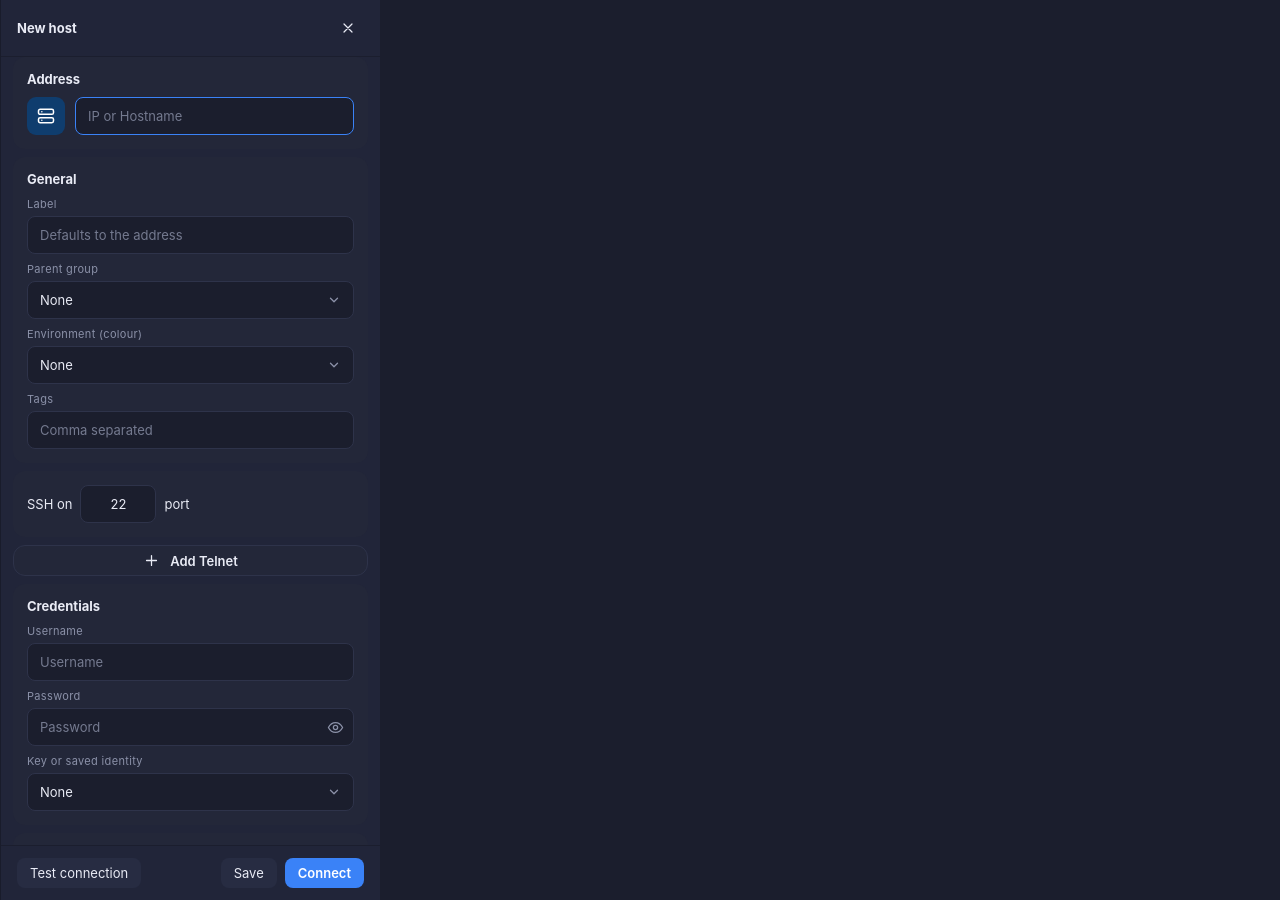
Test: HostForm › rejects port 0
Step 1. Type "h" into the field labelled "Hostname" → (214, 116), box 75,97 -> 354,135
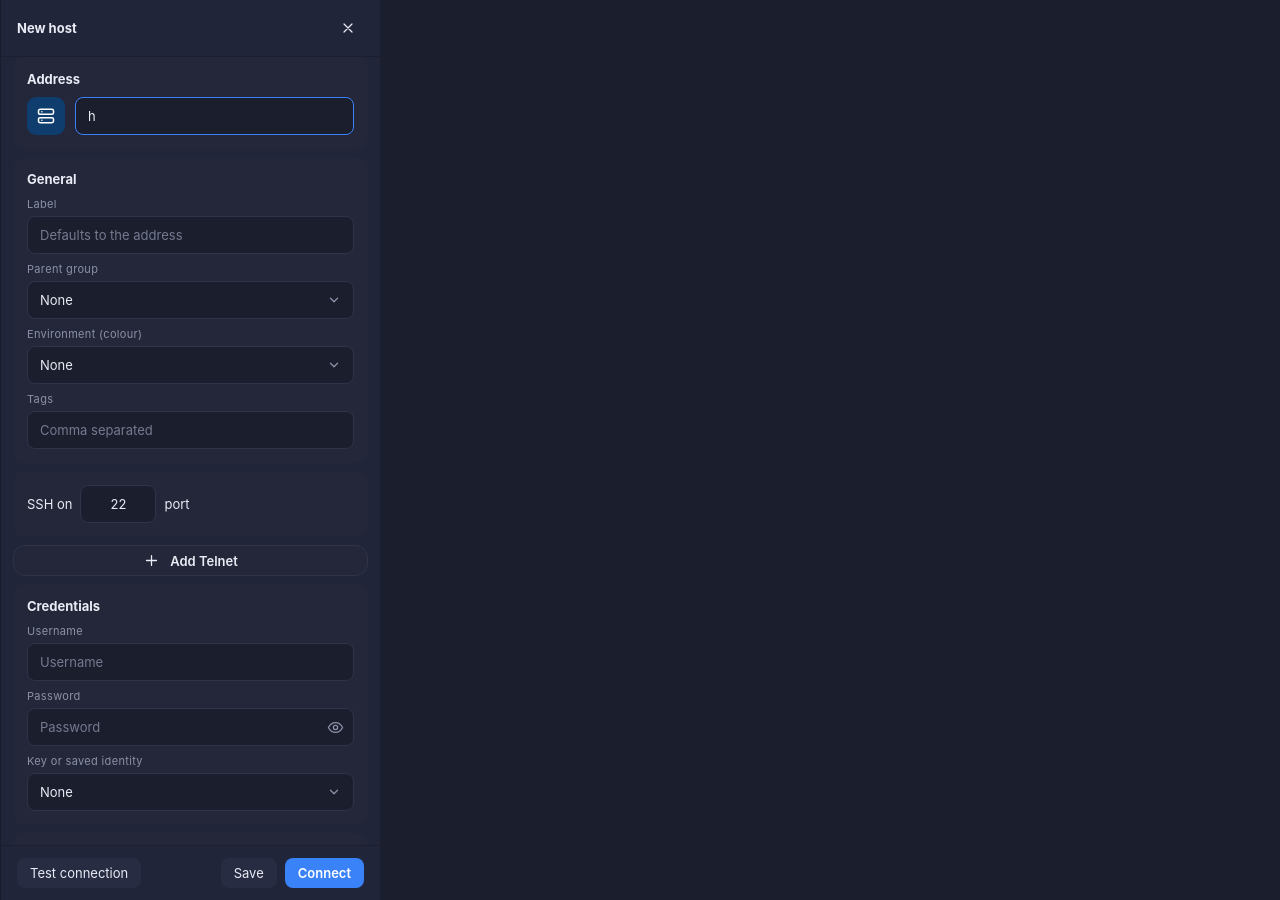
Step 2. Replace the text in the field named "Port" with "0" → (118, 504), box 80,485 -> 156,523
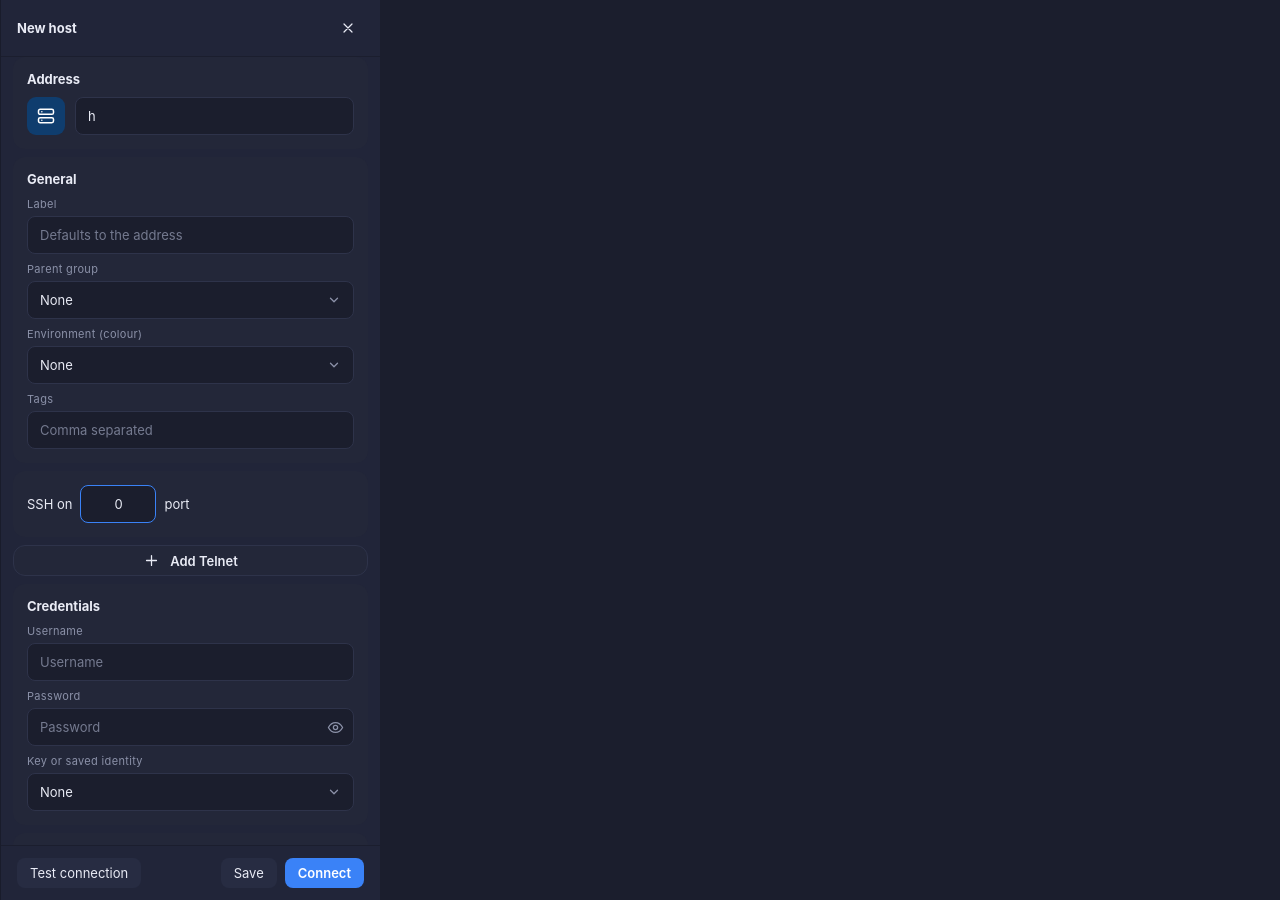
Step 3. Click the button "Save" → (249, 873), box 221,858 -> 277,888
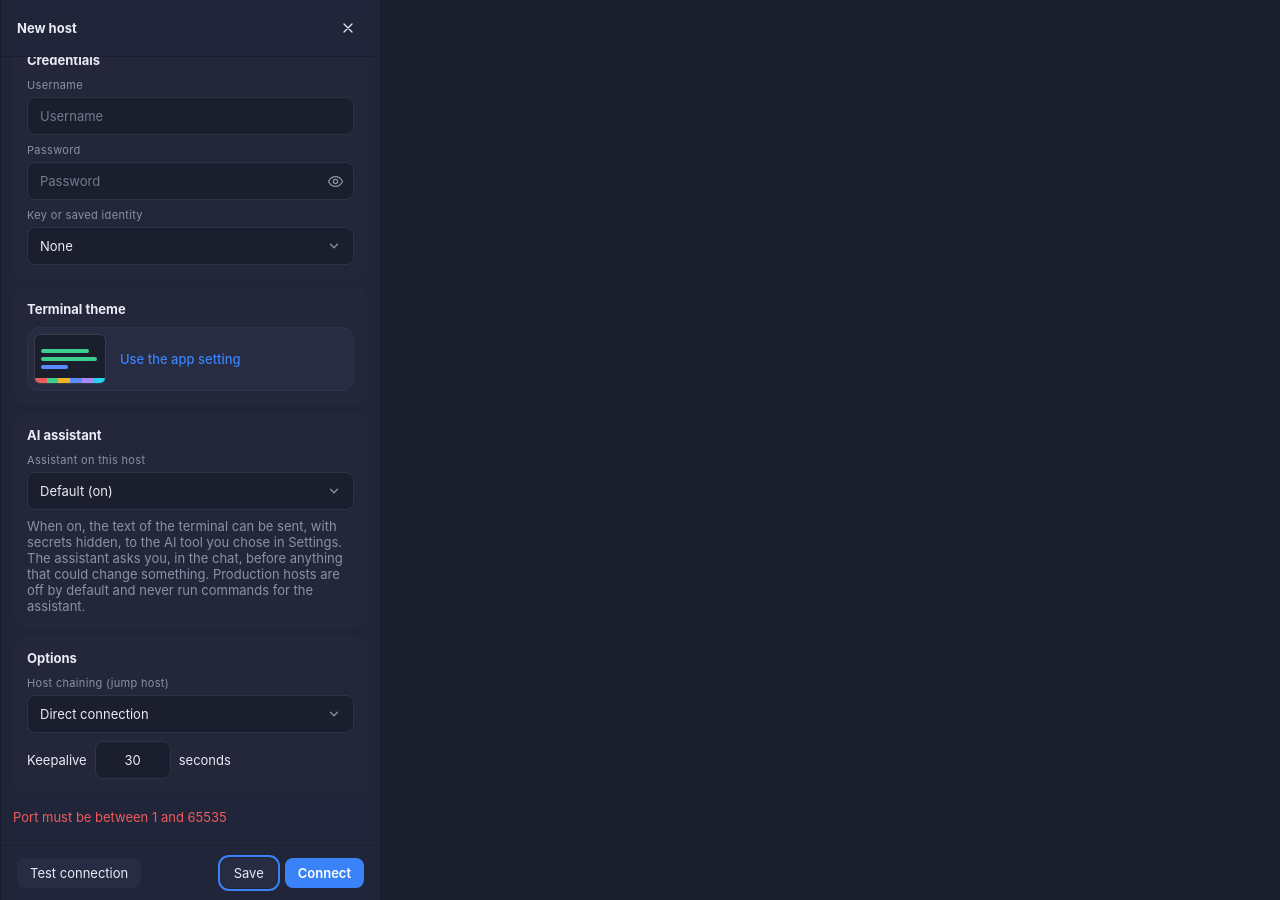
Expected: the message shows "Port must be", 13,809 -> 227,825
